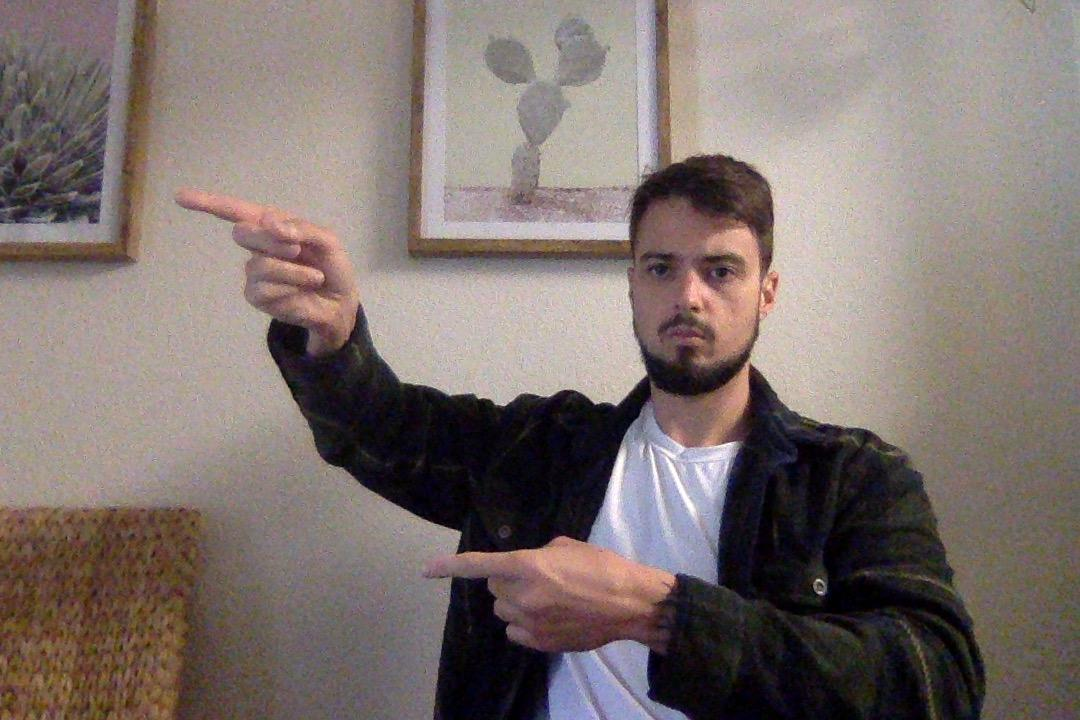Point-Left: (418, 542, 688, 646), (163, 188, 348, 337)
